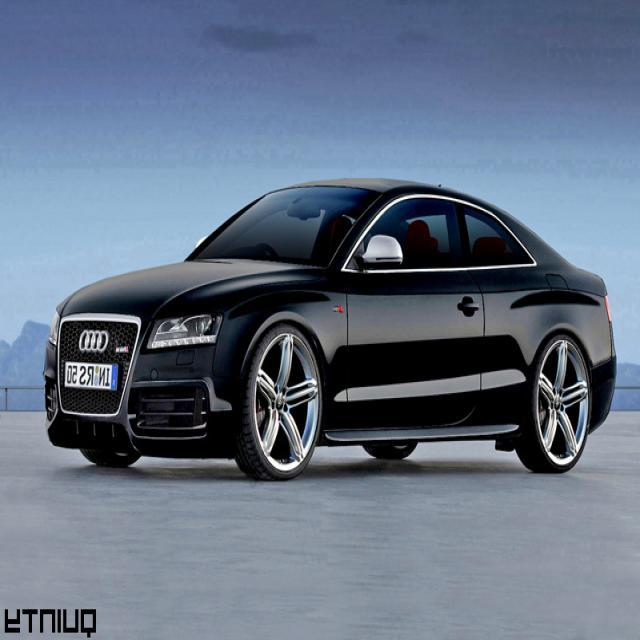Car: (25, 153, 635, 514)
